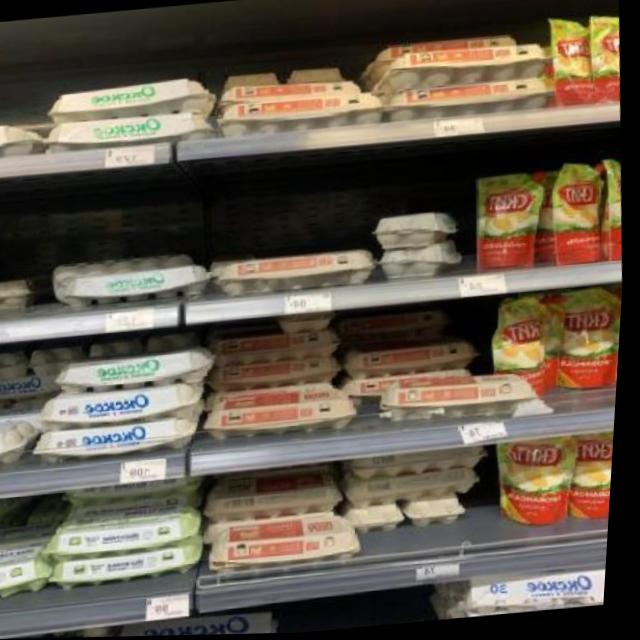Egg: (213, 513, 370, 580), (48, 502, 210, 562), (377, 372, 546, 429), (42, 73, 218, 125), (36, 414, 209, 466), (218, 246, 384, 299), (50, 262, 222, 313), (51, 346, 223, 397), (494, 433, 585, 528), (42, 105, 218, 154), (39, 382, 213, 431), (385, 42, 553, 92), (208, 389, 364, 442), (55, 540, 216, 590), (207, 469, 353, 524), (214, 93, 388, 139), (487, 298, 566, 399), (472, 174, 550, 275), (385, 79, 553, 125), (344, 333, 489, 382), (556, 289, 626, 390), (548, 166, 616, 267), (209, 354, 349, 397), (209, 329, 346, 370), (68, 473, 209, 509), (567, 431, 619, 526), (337, 307, 457, 343), (550, 19, 595, 110), (0, 545, 64, 606), (584, 17, 625, 110), (382, 242, 458, 284), (379, 208, 454, 250), (0, 370, 63, 405), (0, 420, 32, 470), (0, 122, 34, 159)
